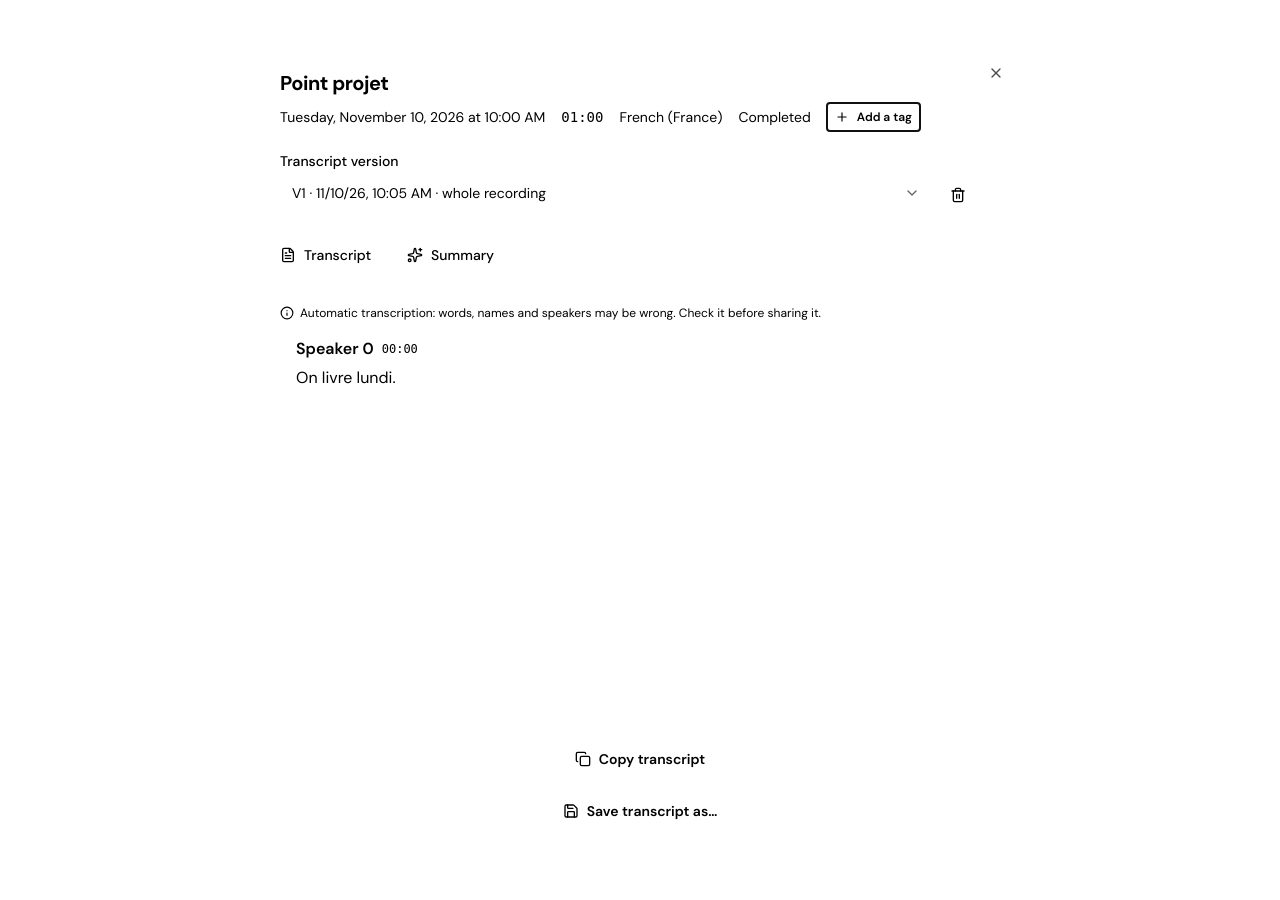
Test: MeetingDetailModal — onglet Résumé › un résumé en cours pour une autre réunion bloque la génération
This screenshot has width=1280, height=900.
Click the tab "Summary" at (451, 255), box [391, 229, 510, 281]
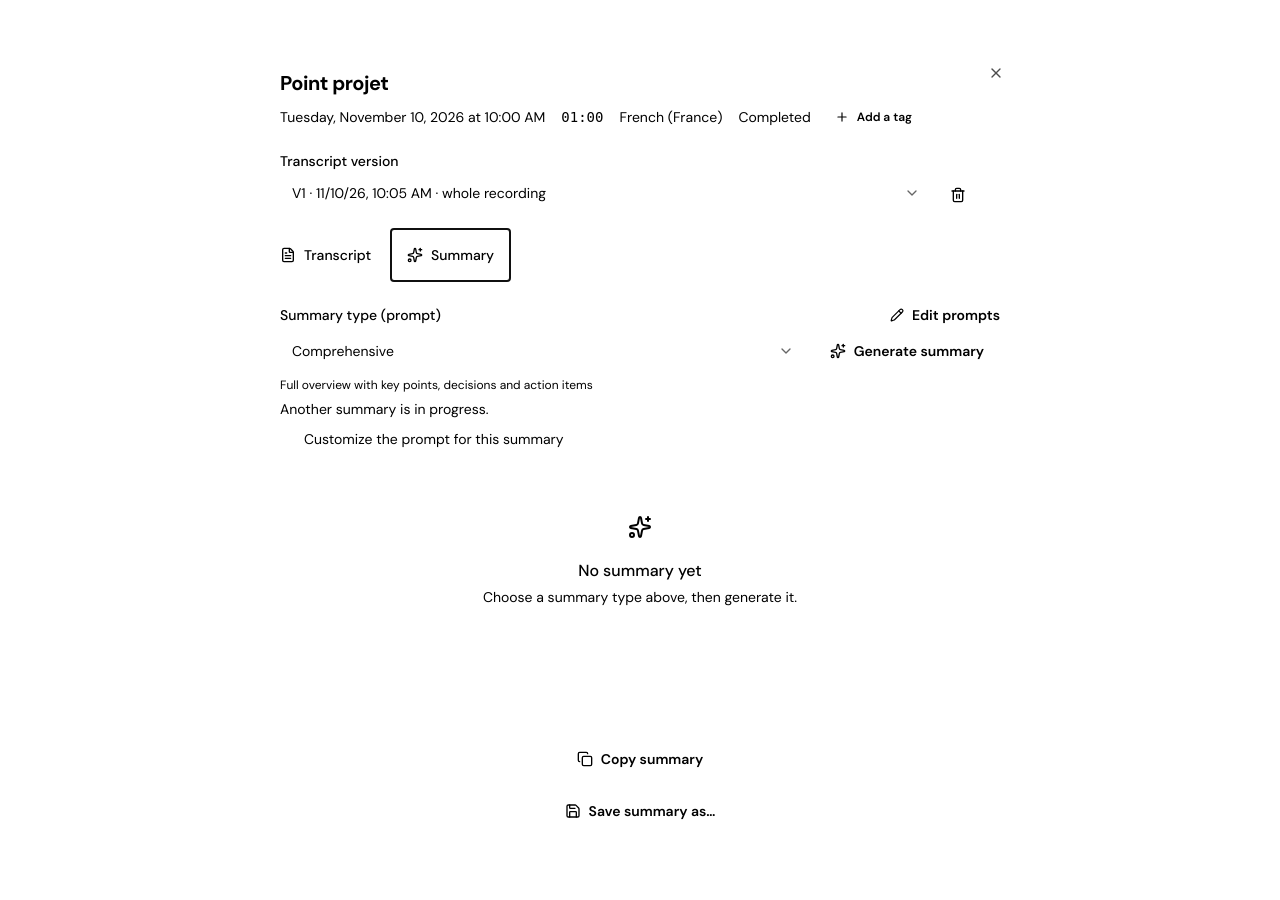
Check: the button "Generate summary" is disabled, box [814, 331, 1000, 371]
Check: the text "Another summary is in progress." is shown, box [280, 400, 488, 418]
